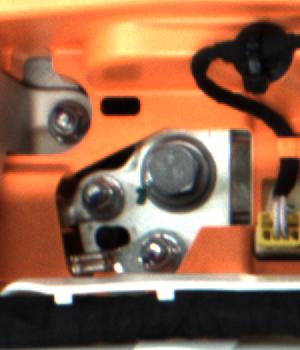screw_s: (41, 95, 92, 139), (72, 174, 125, 212), (139, 229, 176, 266)
